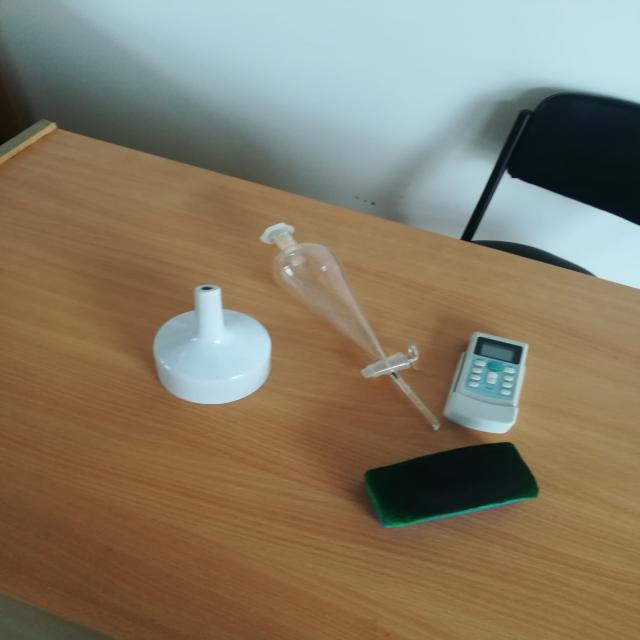Buchner_Funnel: (144, 272, 270, 436)
Separating_Funnel: (244, 202, 482, 449)
